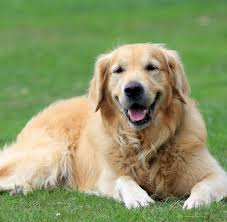Bulldog: (1, 19, 227, 216)
